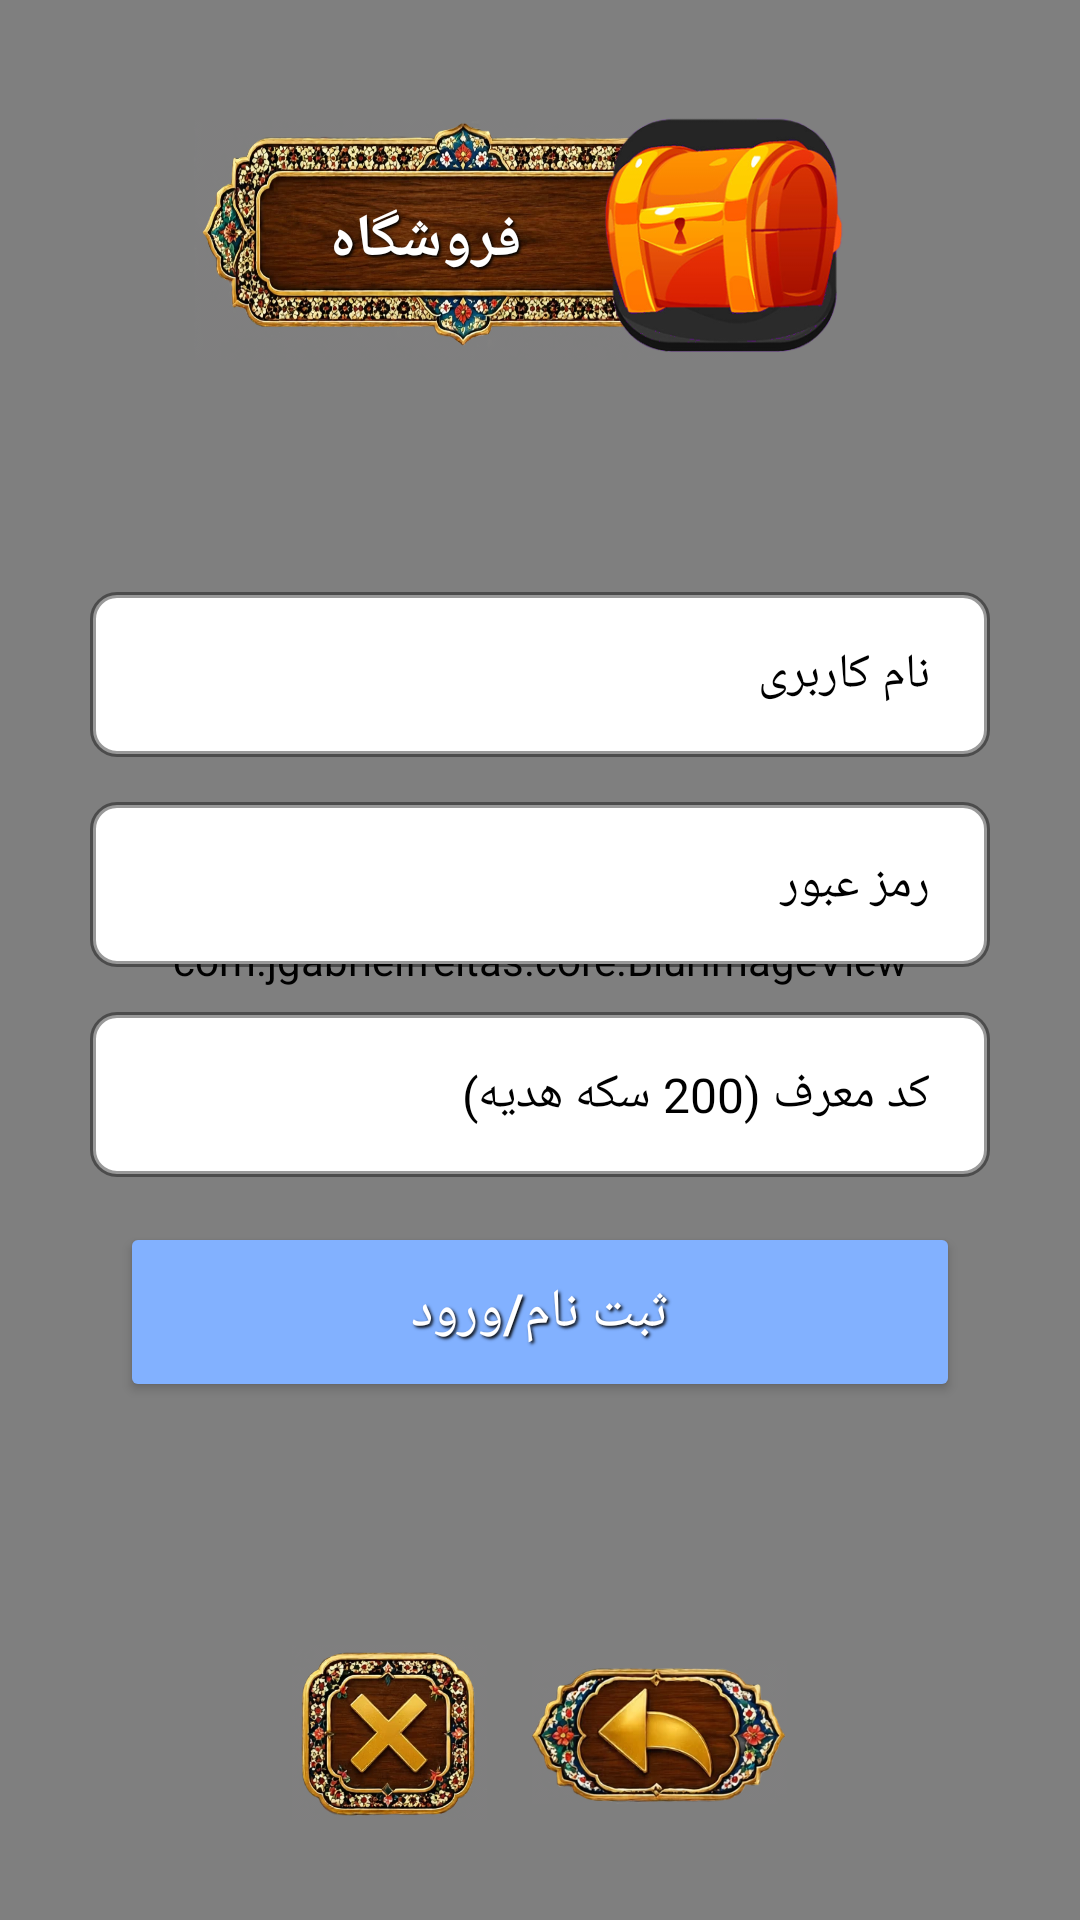

Point at icon controls on the screen. Image size 1080px×1920px, points as point (x, y).
back: point (658, 1735)
close: point (388, 1734)
sandogh: point (713, 235)
